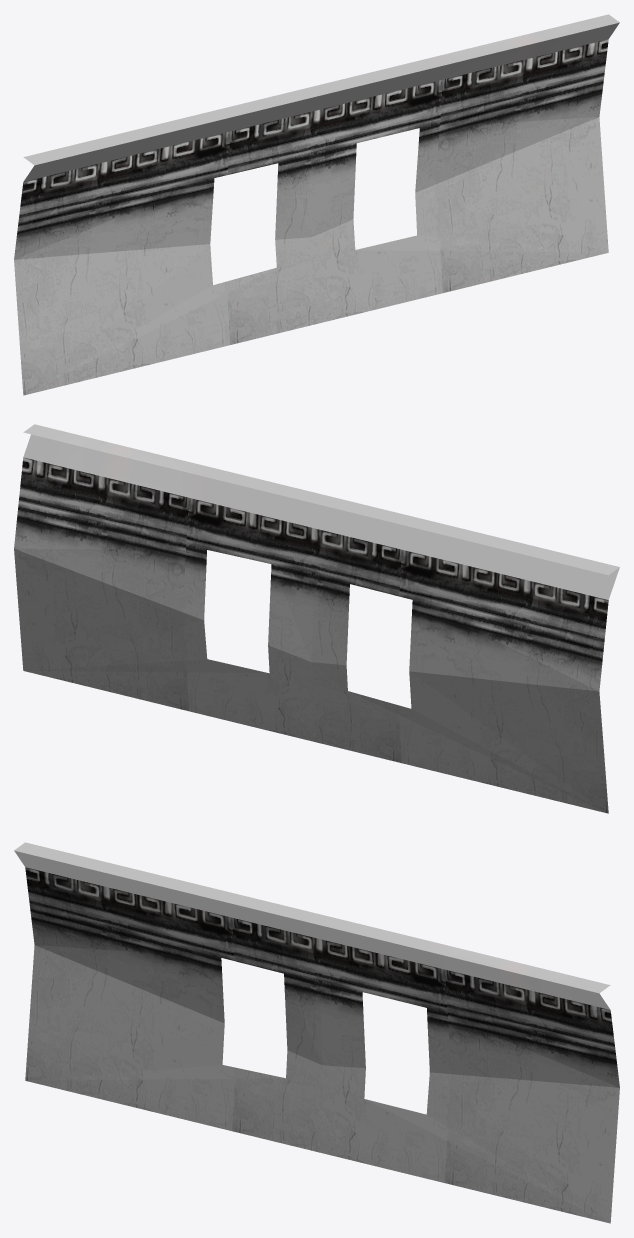
The model's file is W_A3_xffx [Verziert2]_196.glb.
3 views of the same model, one above another, from view 1: azimuth 30°, elevation 25°; view 2: azimuth 150°, elevation 25°; view 3: azimuth 330°, elevation 25° (orthographic).
Visible parts, largest first — view 1: polySurfaceShape833, polySurfaceShape1008; view 2: polySurfaceShape833, polySurfaceShape1008; view 3: polySurfaceShape833, polySurfaceShape1008.
Boxes of the visible parts, <box> form: polySurfaceShape833: <box>14,39,608,395</box>; polySurfaceShape1008: <box>23,14,619,181</box>; polySurfaceShape833: <box>14,457,608,813</box>; polySurfaceShape1008: <box>23,424,619,599</box>; polySurfaceShape833: <box>25,867,619,1223</box>; polySurfaceShape1008: <box>14,842,610,1009</box>.
Size of the model in its own units: 1 by 0.3891 by 0.0607.
2 materials, 2 textured.
